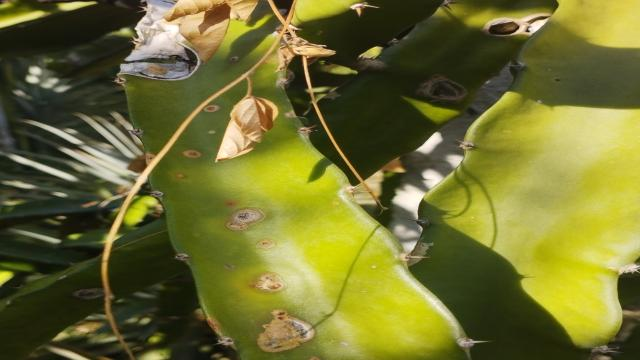stemcanker: (222, 205, 268, 233), (250, 269, 285, 294), (178, 148, 206, 160), (200, 103, 223, 115), (255, 237, 275, 250), (173, 172, 189, 182)
